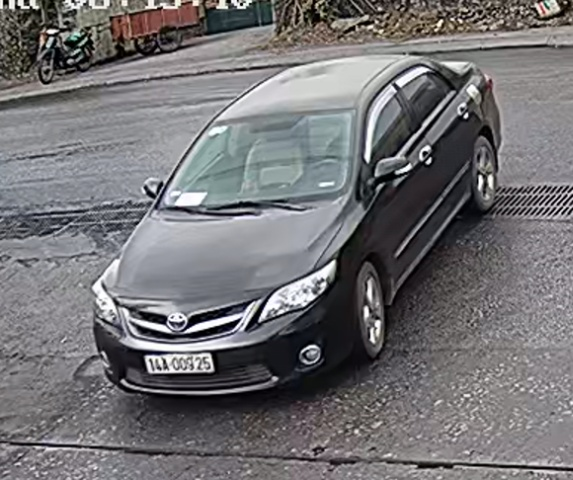vehicle plate: (130, 348, 214, 375)
